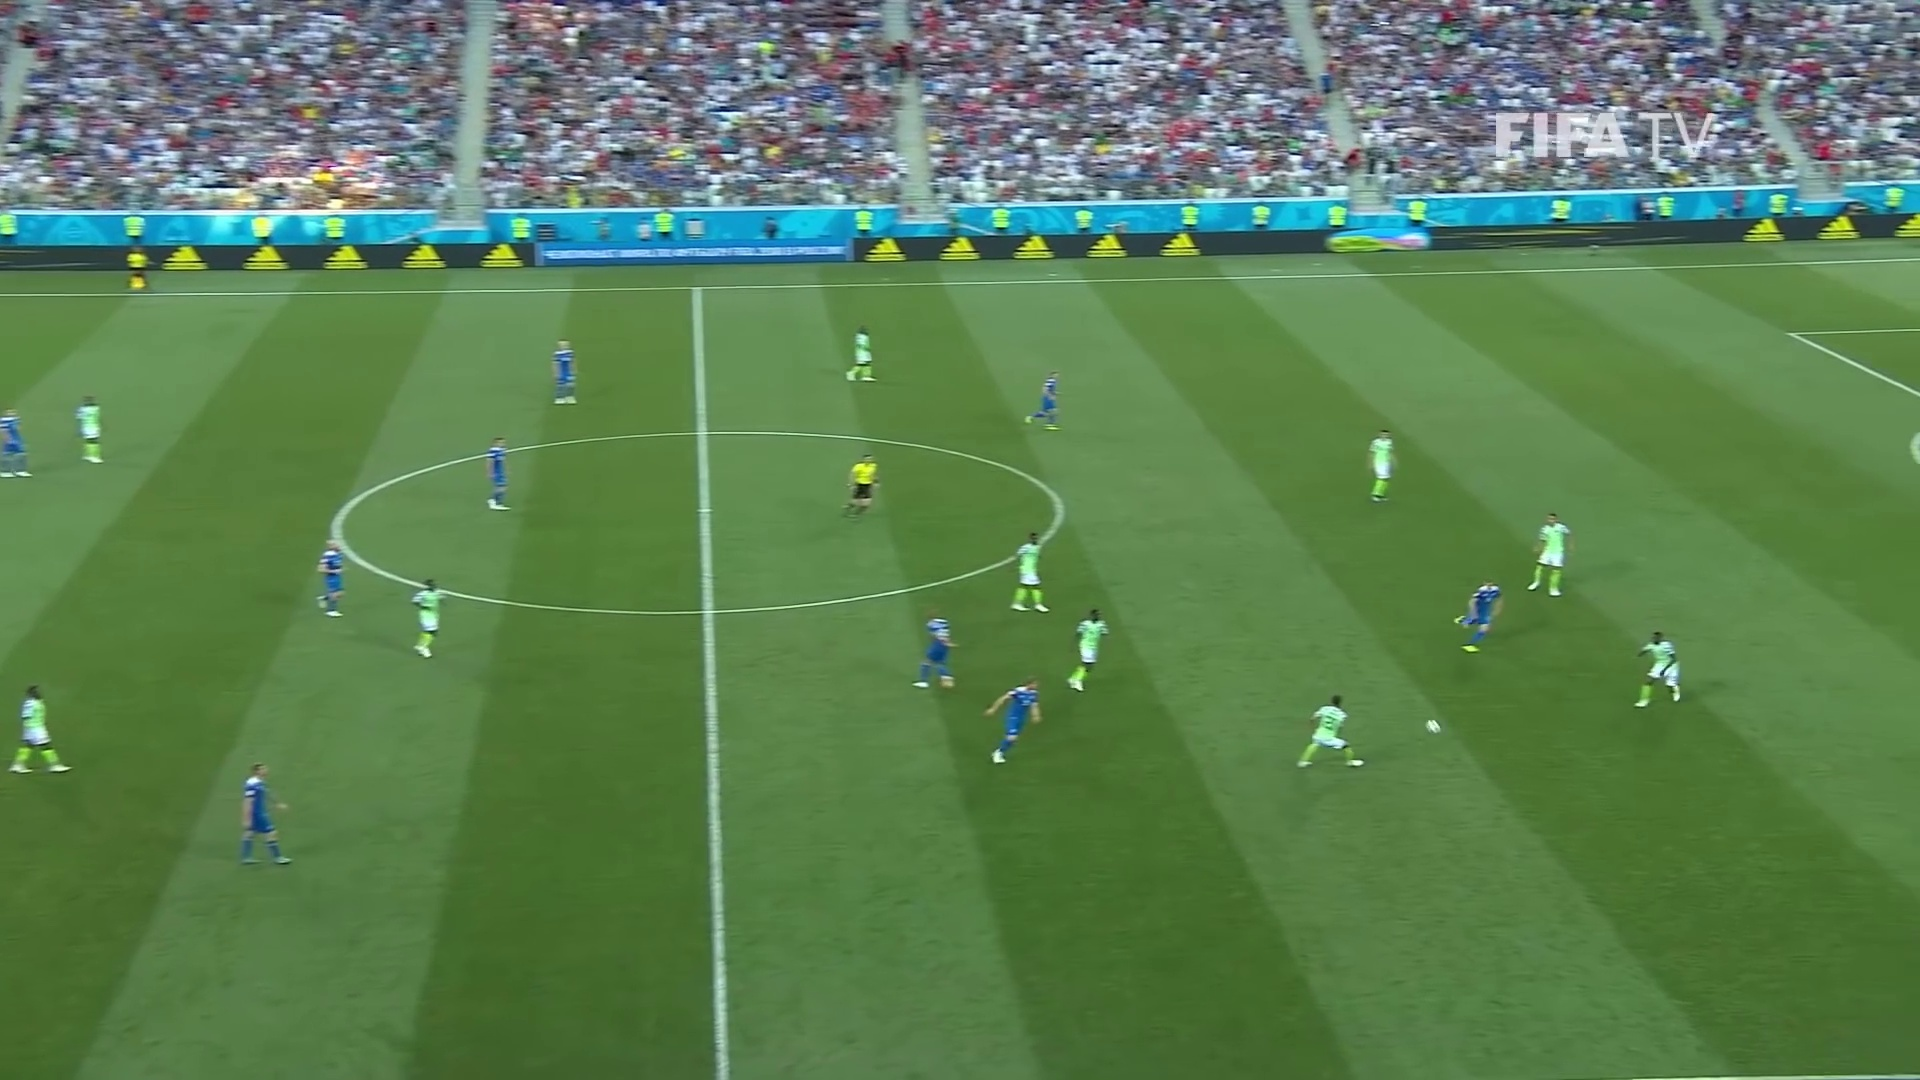ball: (1634, 629, 1679, 704), (1429, 721, 1440, 733)
person: (239, 763, 292, 863), (983, 678, 1042, 764), (9, 687, 69, 770), (1298, 694, 1361, 764), (912, 611, 957, 691), (1068, 609, 1108, 691), (1532, 511, 1567, 596), (1464, 578, 1501, 647), (1012, 535, 1046, 610), (1363, 430, 1397, 501), (1, 408, 34, 477), (77, 396, 106, 464), (414, 581, 440, 657), (318, 539, 343, 615), (844, 324, 875, 380), (1032, 372, 1060, 427), (487, 435, 508, 508), (553, 344, 578, 403)
